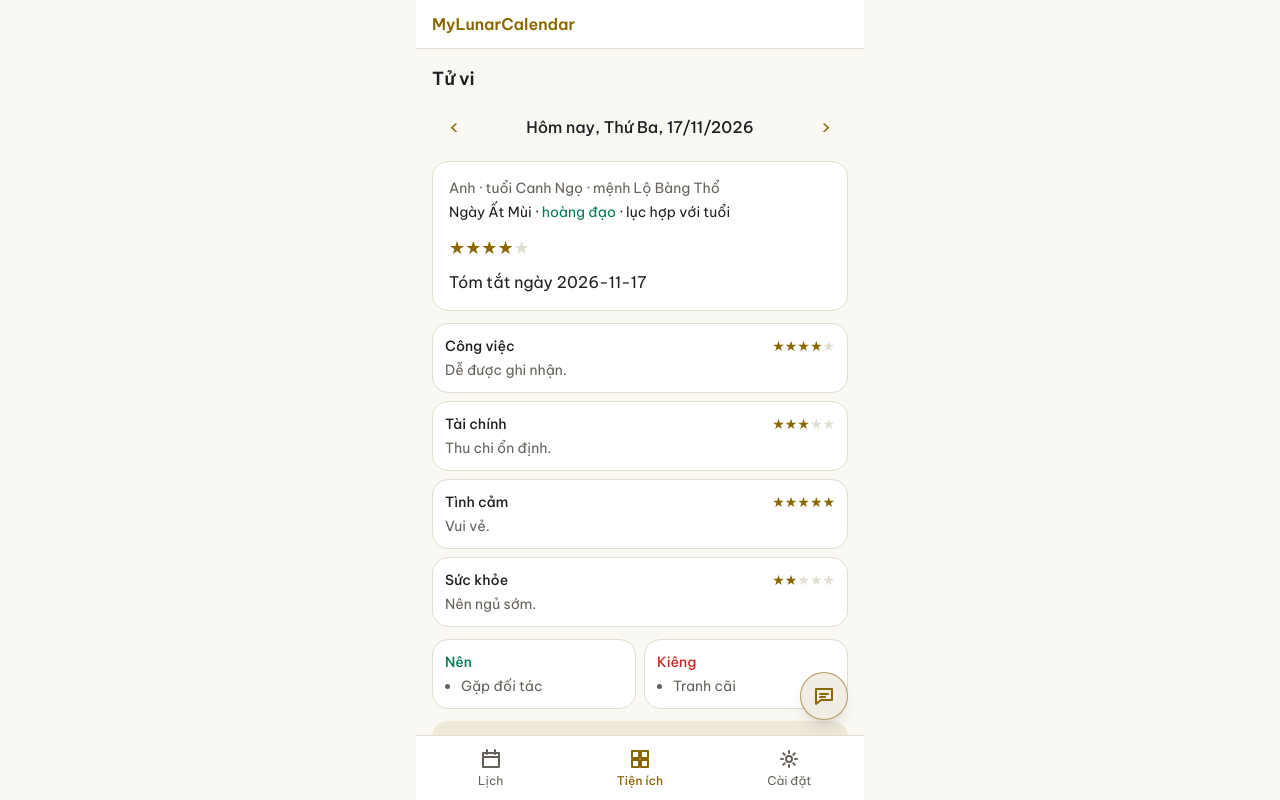
Test: tab Tử vi (HORO-UC01) › gửi hồ sơ trên máy để xem tử vi; bản đã xem lưu lại, mở lại không gọi AI; Hỏi thêm mở chat
Check: the text "Tóm tắt ngày 2026-11-17" is shown, box [449,272,646,292]
Check: the text "Anh · tuổi Canh Ngọ · mệnh Lộ Bàng Thổ" is shown, box [449,179,720,197]
Step 1. Click the button named "Ngày sau" → (826, 127), box [804,105,848,149]
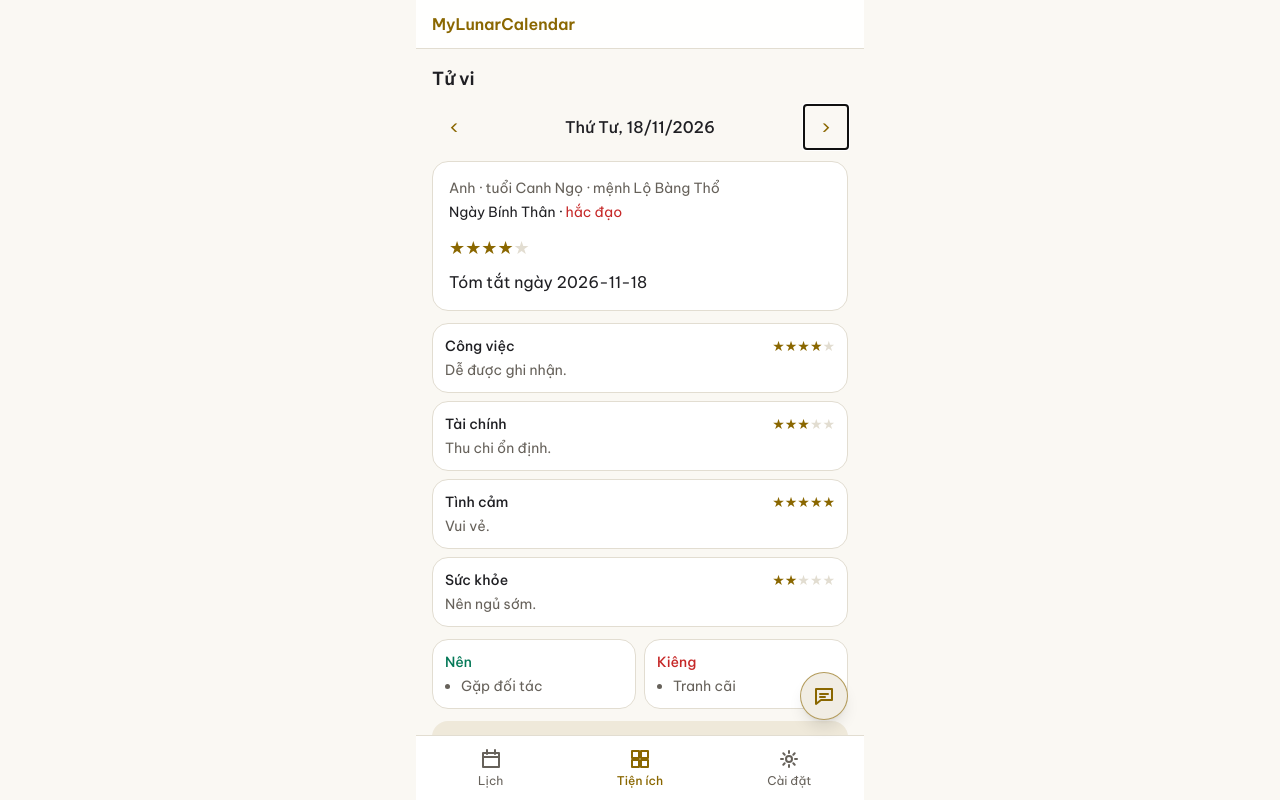
Check: the text "Tóm tắt ngày 2026-11-18" is shown, box [449,272,647,292]
Step 2. Click the button named "Ngày trước" → (454, 127), box [432,105,476,149]
(page scrolled)
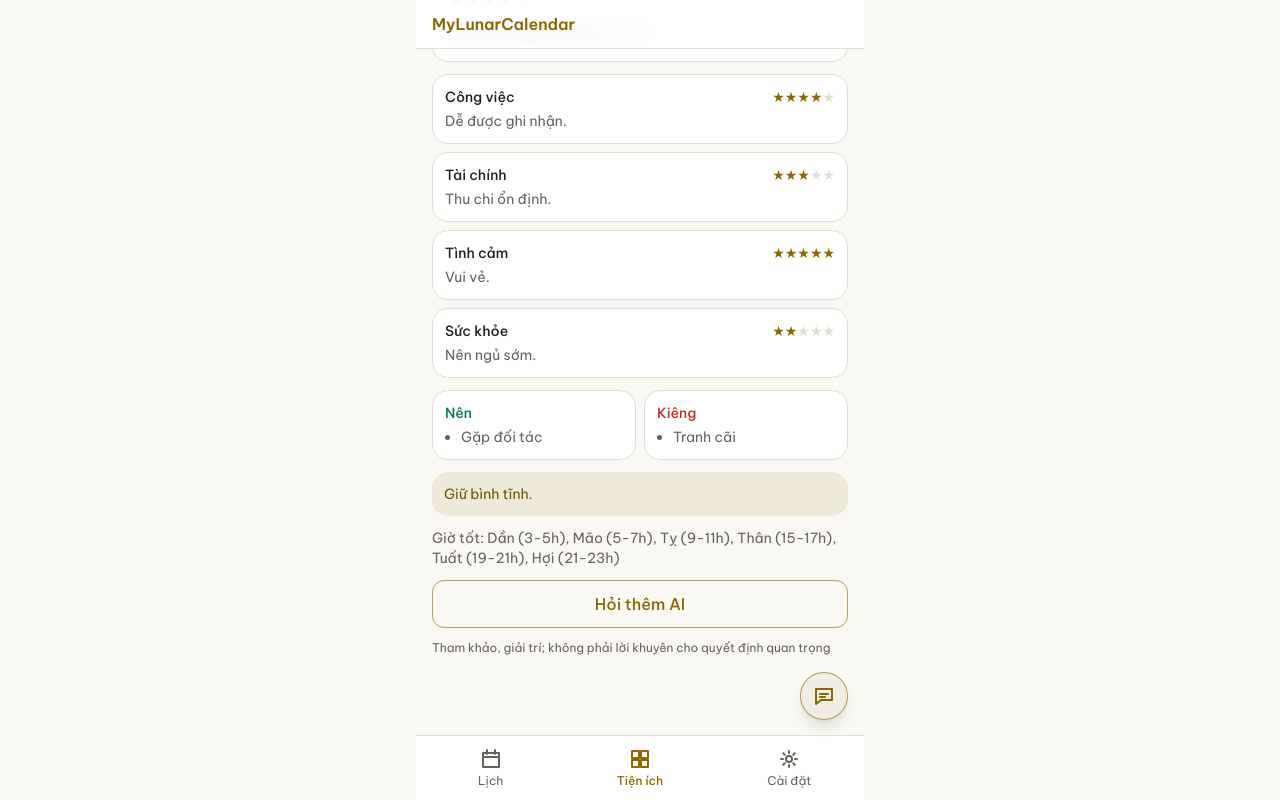
Check: the text "Tóm tắt ngày 2026-11-17" is shown, box [449,23,646,43]
Step 3. Click the button "Hỏi thêm AI" → (640, 604), box [432,580,848,628]
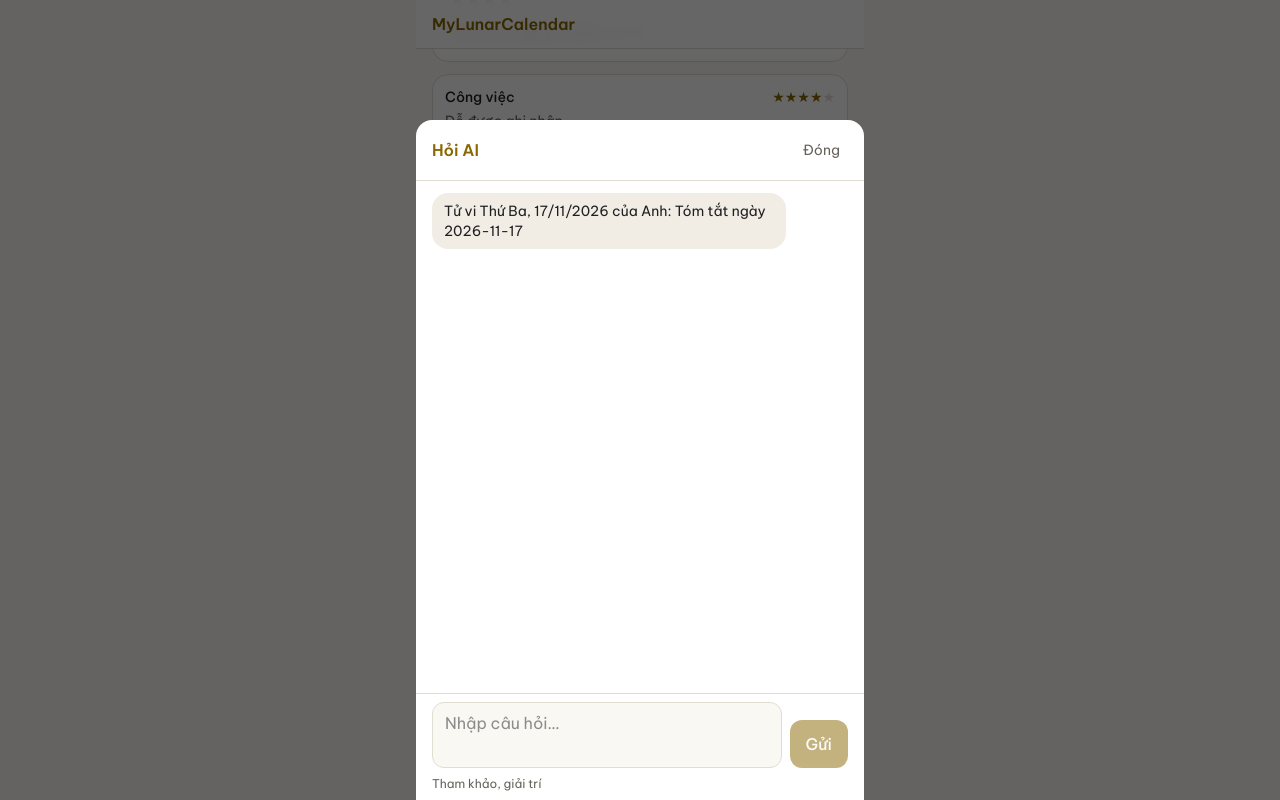
Check: the text "Tử vi Thứ Ba, 17/11/2026 của Anh: Tóm tắt ngày 2026-11-17" is shown, box [432,193,786,249]
Note: Chat gửi kèm hồ sơ và tóm tắt tử vi hôm nay đang lưu trên máy (HORO-UC02/BR-2)
Step 4. Type "Nên làm gì?" into the text box labelled "câu hỏi" → (607, 735), box [432,702,782,768]
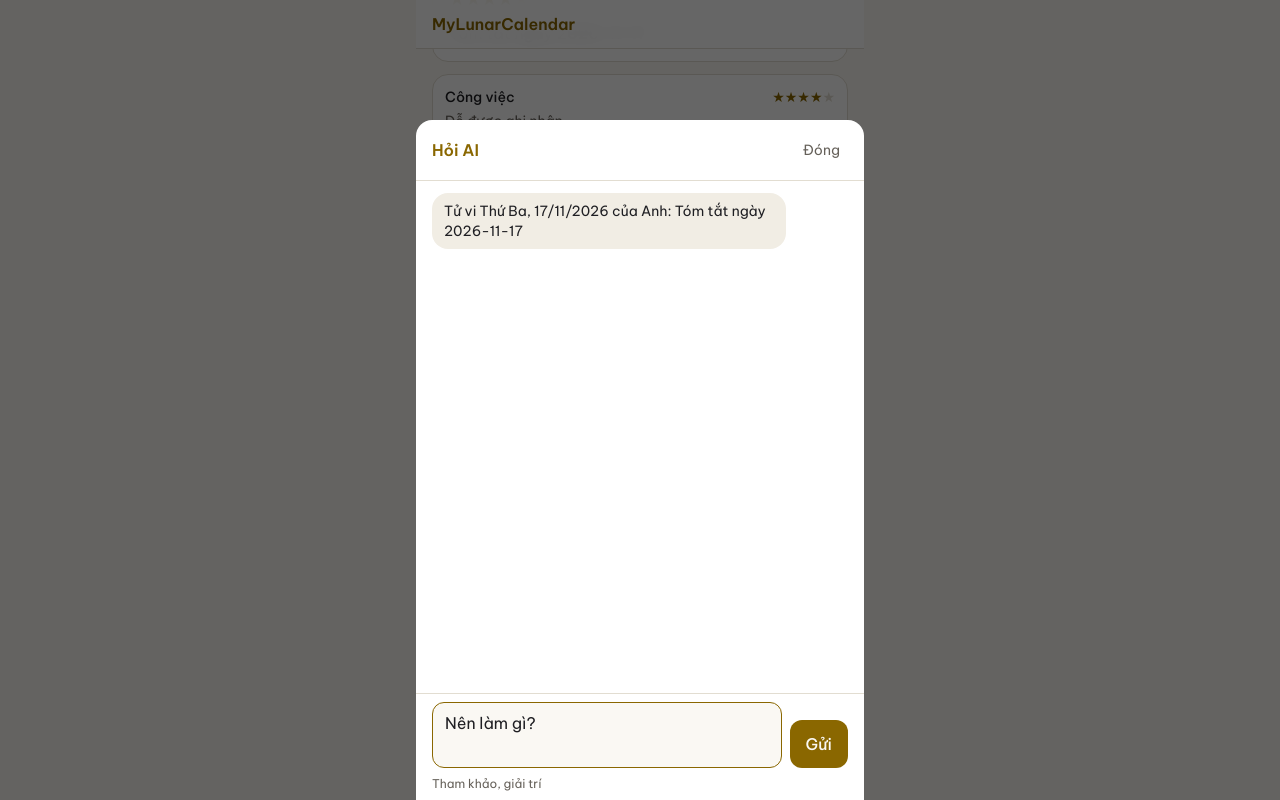
Step 5. Click the button "Gửi" → (819, 744), box [790,720,848,768]
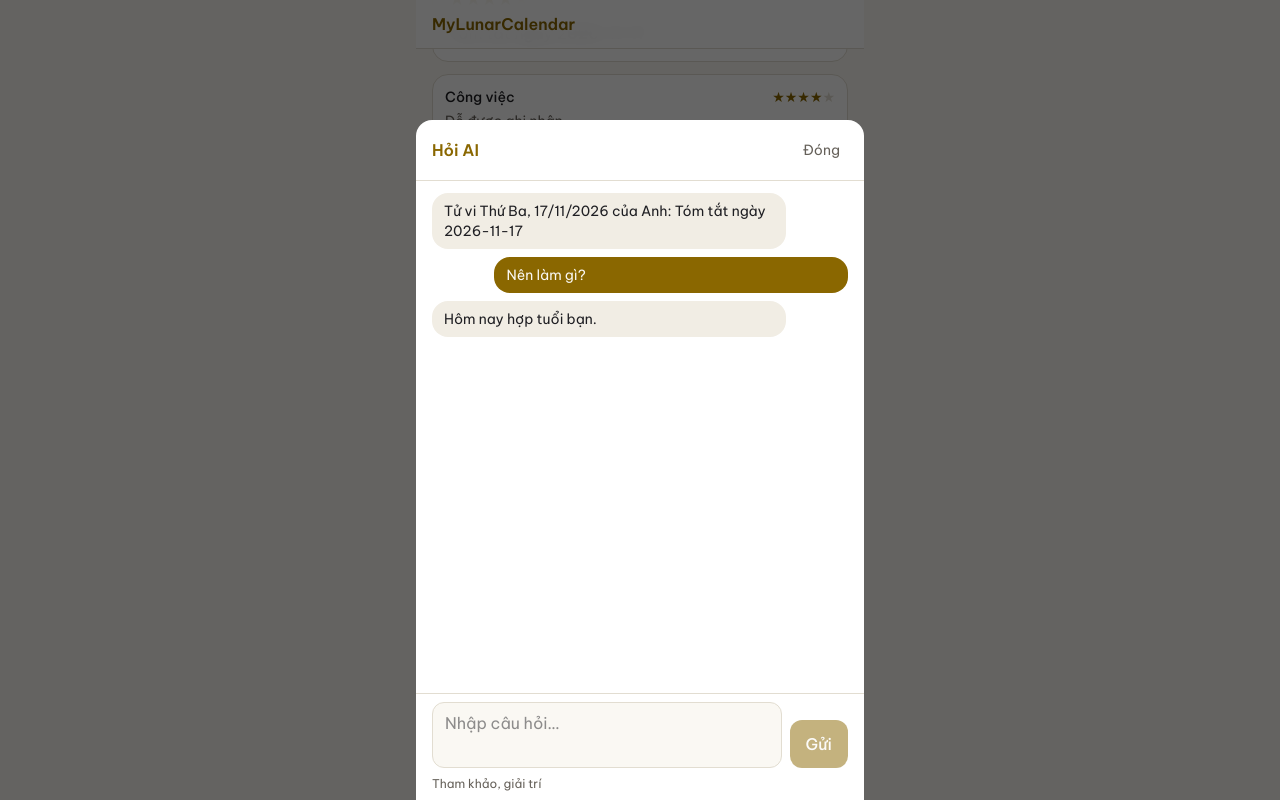
Check: the text "Hôm nay hợp tuổi bạn." is shown, box [432,301,786,337]
